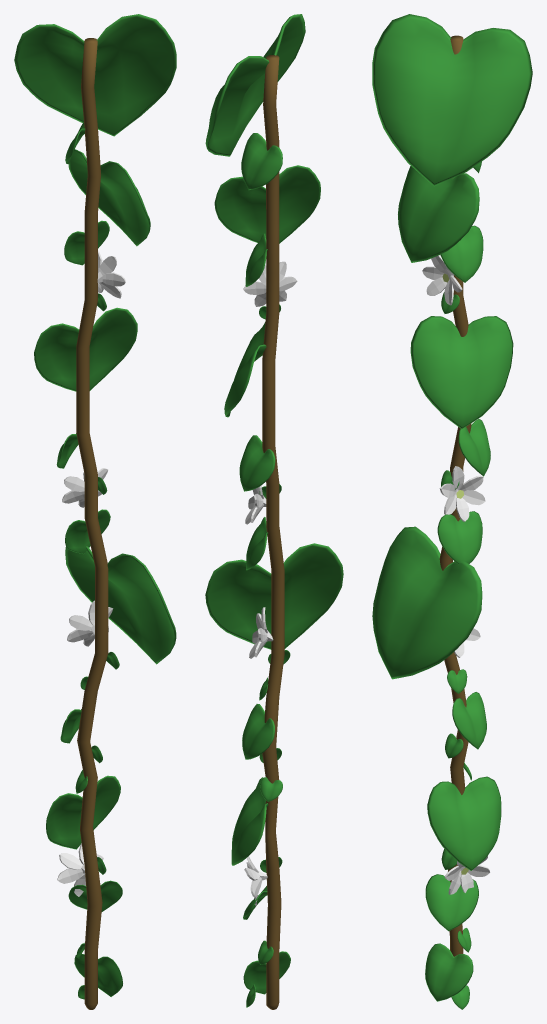
Rendered from vines with flowers 1.glb.
3 views of the same model, side by side, from view 1: azimuth 90°, elevation 25°; view 2: azimuth 150°, elevation 25°; view 3: azimuth 270°, elevation 25° (orthographic).
Visible parts, largest first — view 1: flower.014; view 2: flower.014; view 3: flower.014.
Part boxes in pixels (x1,y1,x2,y2): flower.014: (14, 14, 176, 1009); flower.014: (205, 14, 343, 1009); flower.014: (372, 14, 532, 1009).
Size of the model in its own units: 0.8822 by 8.77 by 1.3.
